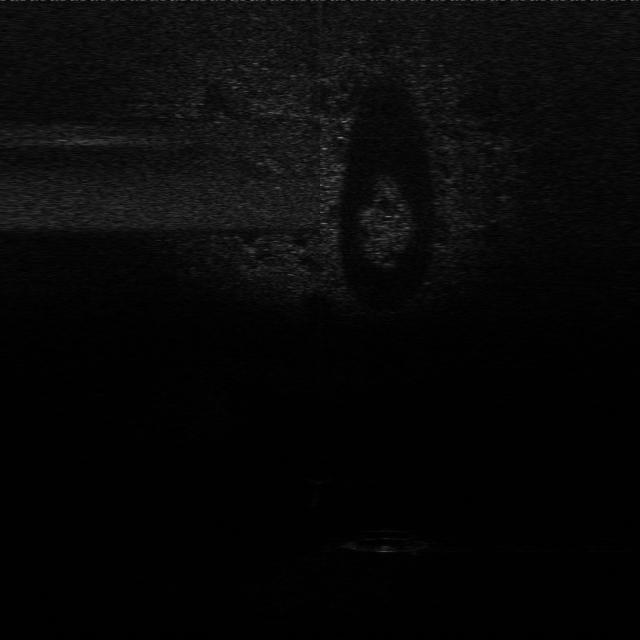tyre: (344, 522, 434, 559)
